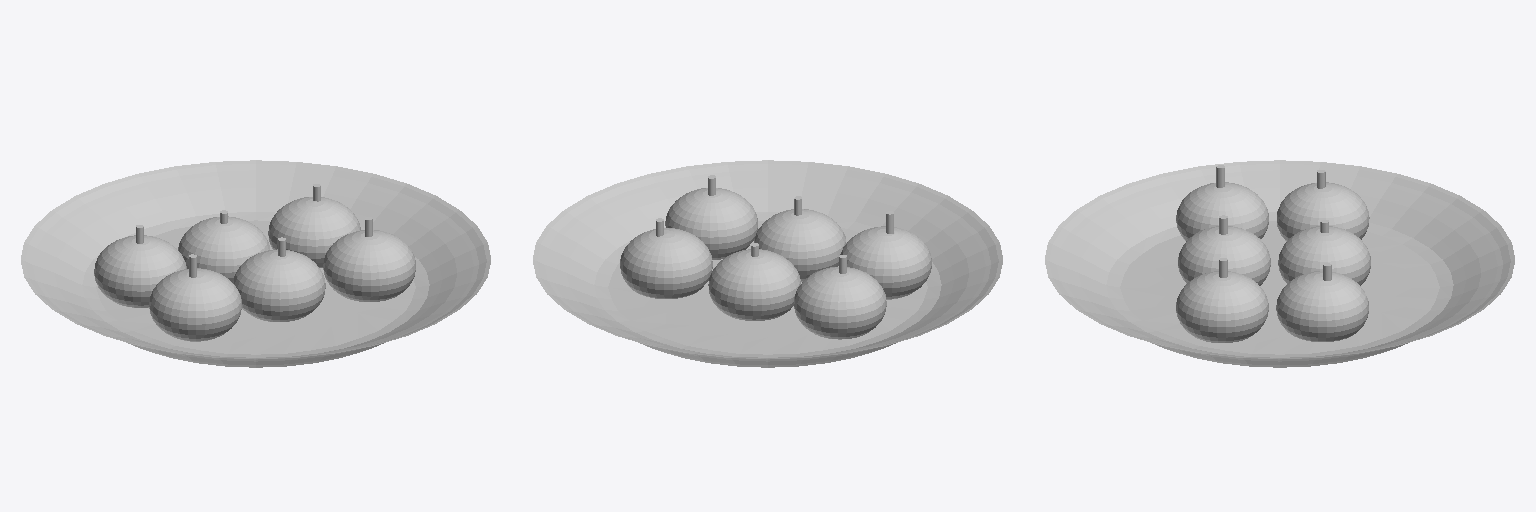
The model's file is kroket kentang.obj.
The picture shows the model from 3 angles: view 1: azimuth 30°, elevation 25°; view 2: azimuth 150°, elevation 25°; view 3: azimuth 270°, elevation 25°; orthographic projection.
Parts seen in each view (by area): view 1: Cylinder, Sphere.005, Sphere.003, Sphere.004, Sphere.002, Sphere, Sphere.001; view 2: Cylinder, Sphere.002, Sphere, Sphere.001, Sphere.003, Sphere.005, Sphere.004; view 3: Cylinder, Sphere.003, Sphere, Sphere.001, Sphere.004, Sphere.002, Sphere.005.
Part boxes in pixels (left/top/right/bottom): Cylinder: left=21, top=160, right=490, bottom=367; Sphere.005: left=149, top=268, right=241, bottom=341; Sphere.003: left=323, top=230, right=415, bottom=301; Sphere.004: left=233, top=249, right=325, bottom=321; Sphere.002: left=94, top=235, right=186, bottom=307; Sphere: left=268, top=197, right=360, bottom=267; Sphere.001: left=178, top=216, right=269, bottom=282; Cylinder: left=533, top=160, right=1002, bottom=367; Sphere.002: left=794, top=267, right=886, bottom=339; Sphere: left=620, top=228, right=712, bottom=298; Sphere.001: left=708, top=249, right=800, bottom=320; Sphere.003: left=665, top=188, right=757, bottom=259; Sphere.005: left=840, top=226, right=931, bottom=299; Sphere.004: left=754, top=209, right=846, bottom=281; Cylinder: left=1045, top=160, right=1514, bottom=367; Sphere.003: left=1176, top=271, right=1268, bottom=342; Sphere: left=1276, top=271, right=1368, bottom=341; Sphere.001: left=1278, top=226, right=1370, bottom=285; Sphere.004: left=1178, top=226, right=1270, bottom=285; Sphere.002: left=1277, top=182, right=1369, bottom=241; Sphere.005: left=1176, top=182, right=1268, bottom=240.
Size of the model in its own units: 2.31 by 0.4769 by 2.31.